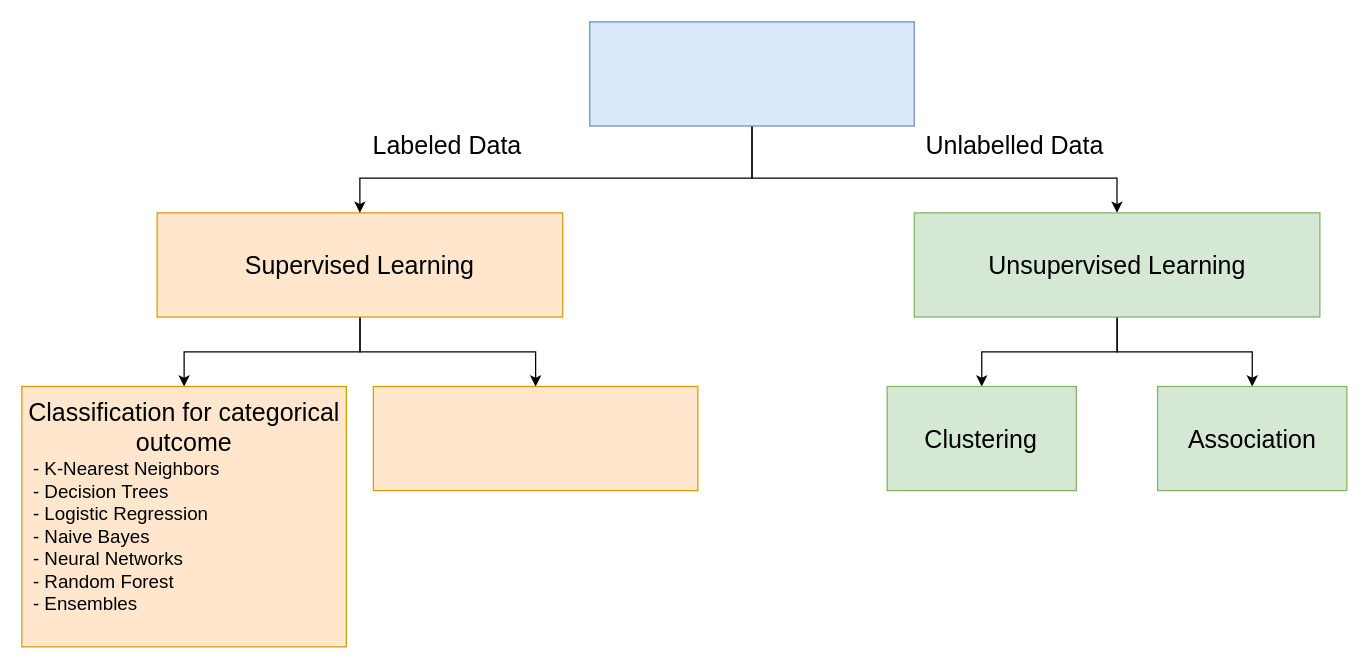
This 1369x669 diagram has some shape labels left out. Each missing label, with the centre of its shape:
Machine Learning: [751,73]
Regression for continuous numeric outcome: [535,438]
